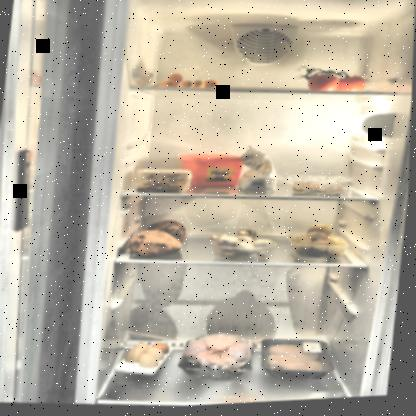butter: (177, 151, 247, 195)
carrot: (153, 69, 223, 96)
chicken: (183, 331, 259, 382), (265, 340, 336, 382)
eggs: (127, 337, 176, 373)
mushrooms: (207, 226, 280, 267)
potato: (287, 224, 352, 265)
shrimp: (289, 179, 358, 200)
sweet_potato: (131, 219, 189, 264)
tomato: (295, 65, 368, 101)
